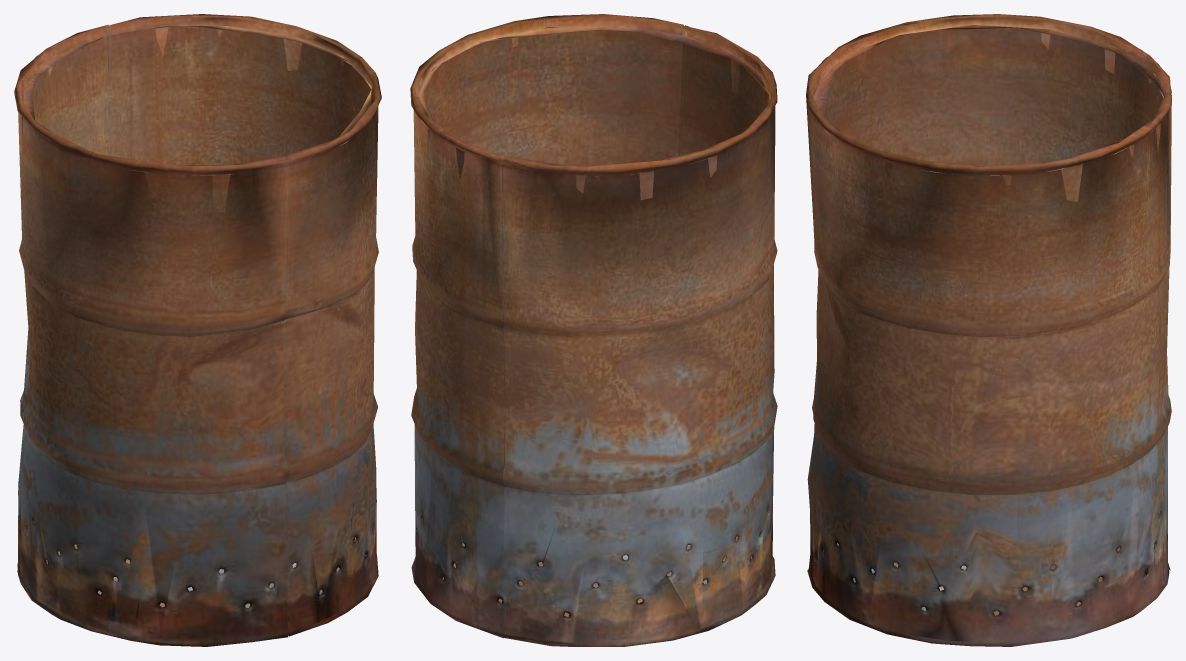
File: stove.glb
The picture shows the model from 3 angles, left to right: view 1: azimuth 30°, elevation 25°; view 2: azimuth 150°, elevation 25°; view 3: azimuth 270°, elevation 25°; orthographic projection.
Visible parts, largest first — view 1: barrel_stove; view 2: barrel_stove; view 3: barrel_stove.
Part boxes in pixels (x1,y1,x2,y2): barrel_stove: (14, 14, 381, 646); barrel_stove: (410, 14, 777, 646); barrel_stove: (806, 14, 1171, 646).
Bounding box in the file's own units: 0.5931 × 0.8573 × 0.5899.
Materials: 1 (1 with a texture image).
